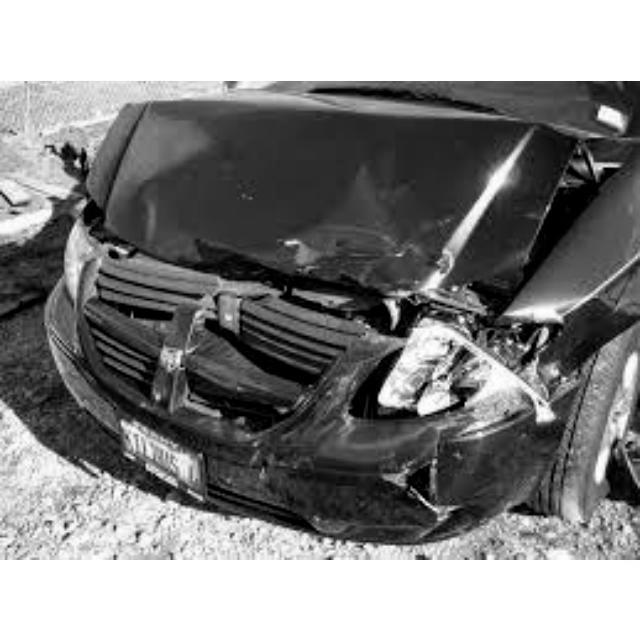Headlight-damage: (386, 296, 558, 439)
bonnet-dent: (109, 80, 529, 294)
front-bumper-dent: (89, 308, 343, 503)
